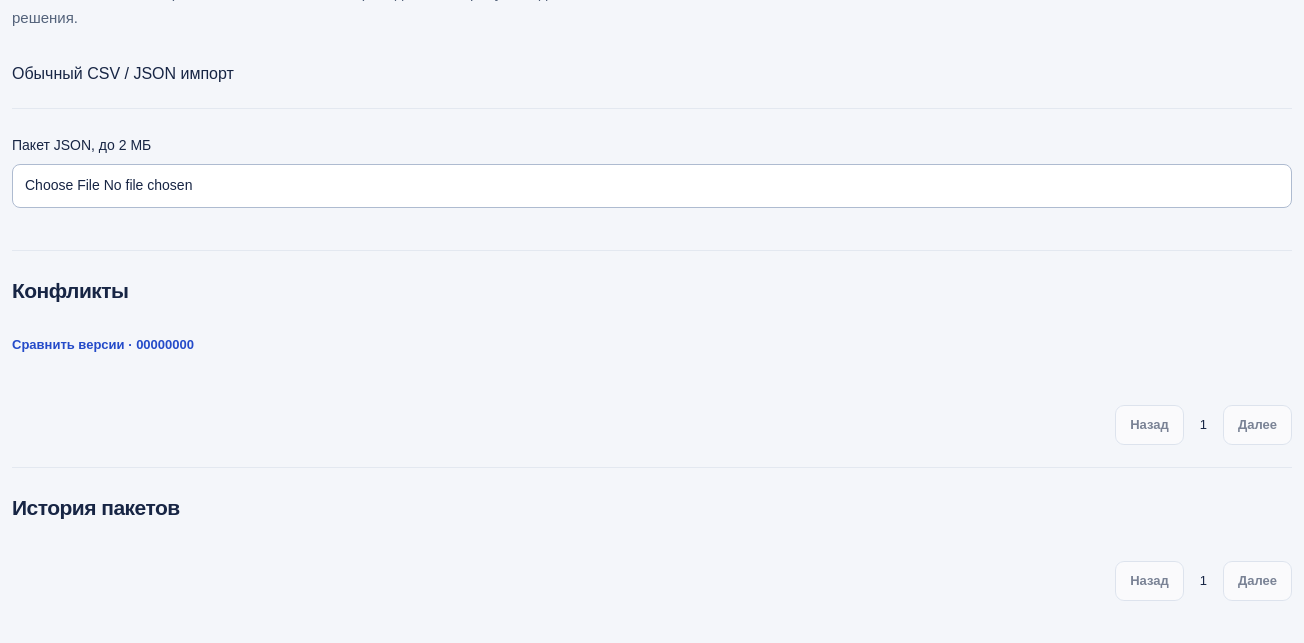
Test: content-pack editor workflow › resolves a compared conflict with the displayed version: Оставить текущий текст
Click the button "Сравнить версии · 00000000": [103, 345] box [12,325,194,365]
(page scrolled)
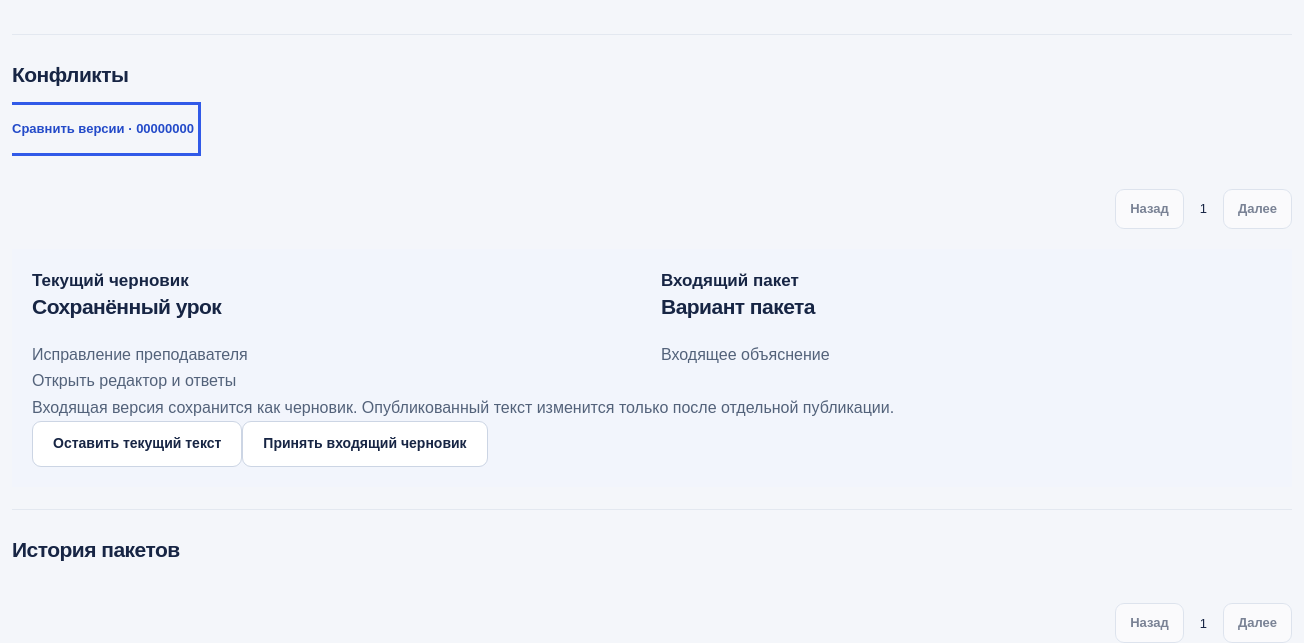
Check: the text "Исправление преподавателя" is shown, box [32,346,248,363]
Check: the text "Входящее объяснение" is shown, box [661,346,830,363]
Click the button "Оставить текущий текст": [137, 444] box [32,421,242,467]
(page scrolled)
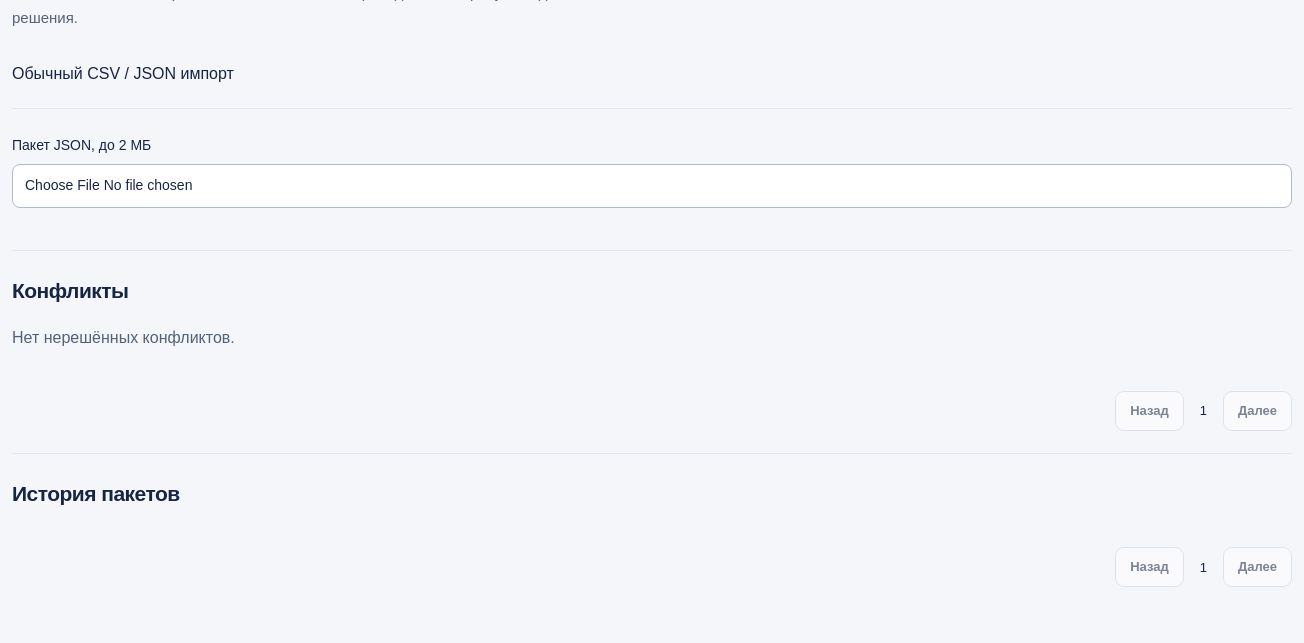
Check: the text "Нет нерешённых конфликтов." is shown, box [12,329,235,346]
